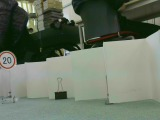speed_20: (1, 48, 19, 71)
